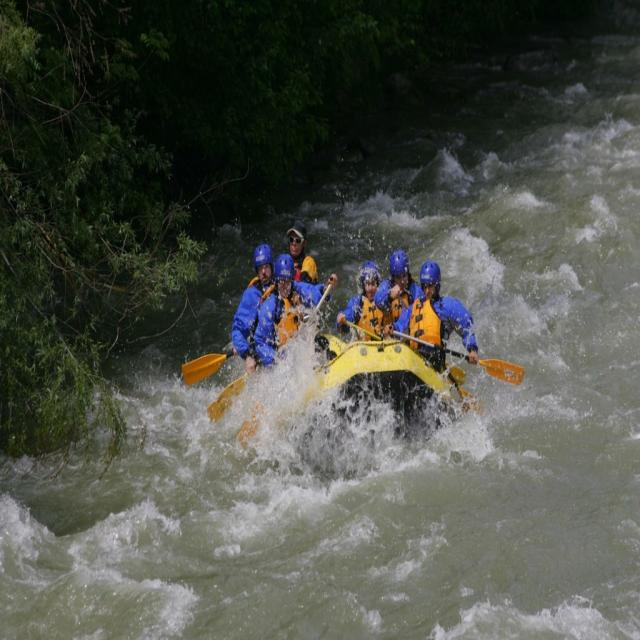Boat: (242, 325, 468, 470)
